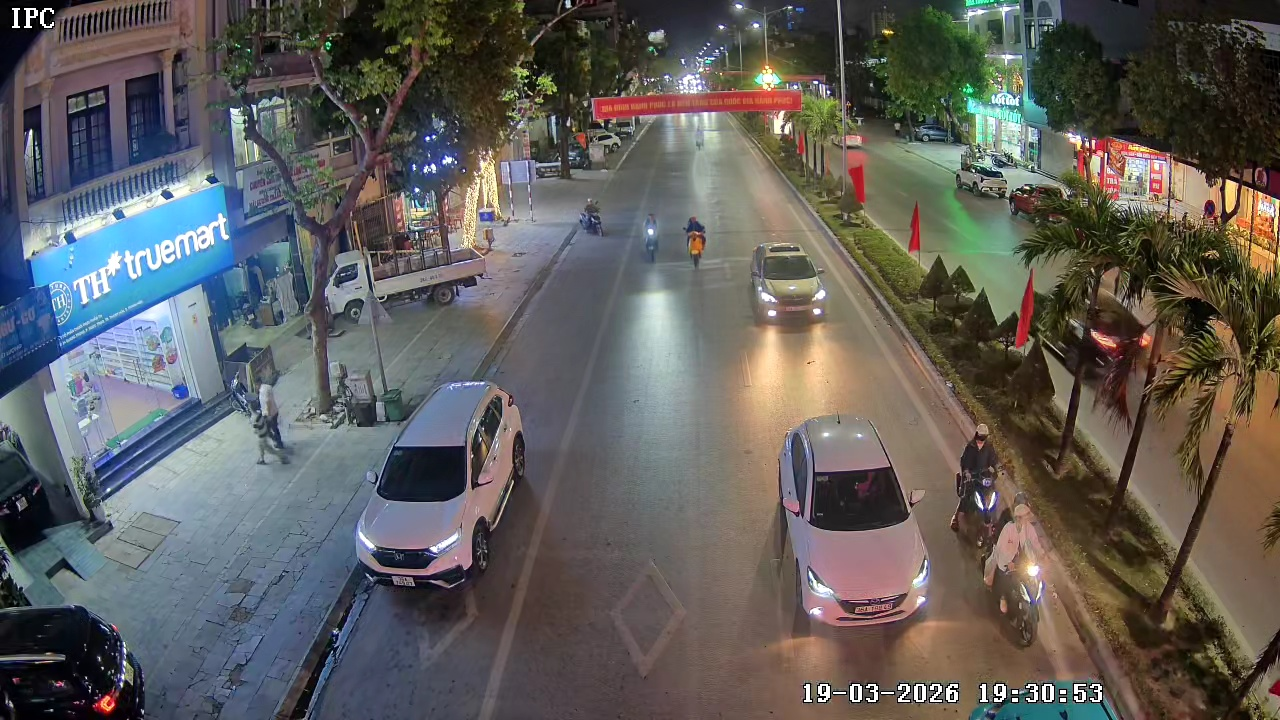car: (353, 378, 531, 599), (775, 415, 932, 632), (0, 603, 149, 719), (749, 240, 827, 322)
motorbike: (988, 488, 1054, 648), (948, 423, 1006, 551), (683, 214, 708, 267), (581, 195, 605, 238), (642, 213, 661, 263)
